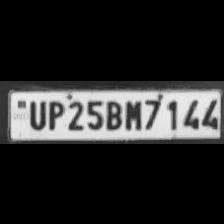1: (161, 96, 179, 130)
2: (64, 97, 84, 131)
4: (178, 95, 200, 129), (199, 96, 219, 128)
5: (84, 96, 104, 130)
7: (142, 96, 160, 130)
B: (102, 97, 122, 130)
M: (122, 96, 142, 130)
P: (44, 97, 64, 130)
U: (26, 97, 46, 129)
